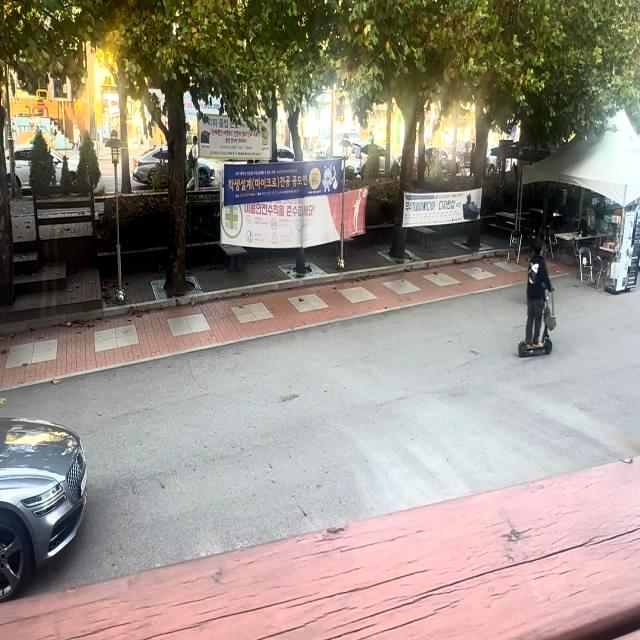bare_head: (533, 239, 553, 268)
human: (519, 236, 548, 347)
kickboard: (507, 337, 574, 358)
